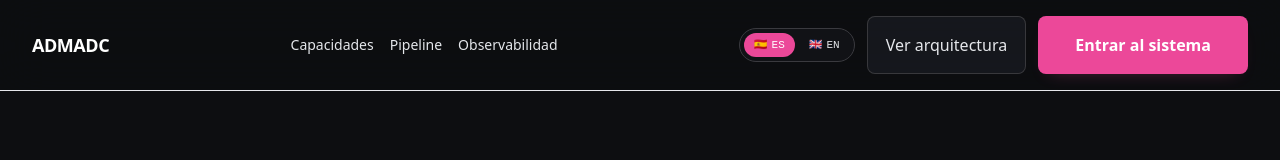
Test: LandingNav i18n › cambia la navegación y persiste el idioma seleccionado
expect the link "Capacidades" is shown: met, box [286,35,378,55]
Click the button "🇬🇧 EN". click: (824, 45)
box: [799,33,850,57]
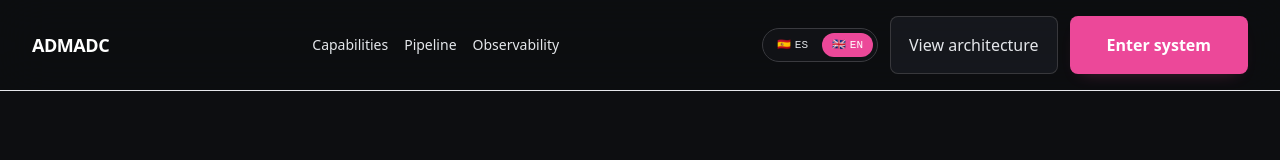
expect the link "Capabilities" is shown: met, box [308,35,392,55]
expect the link "Enter system" is shown: met, box [1070,16,1248,74]
